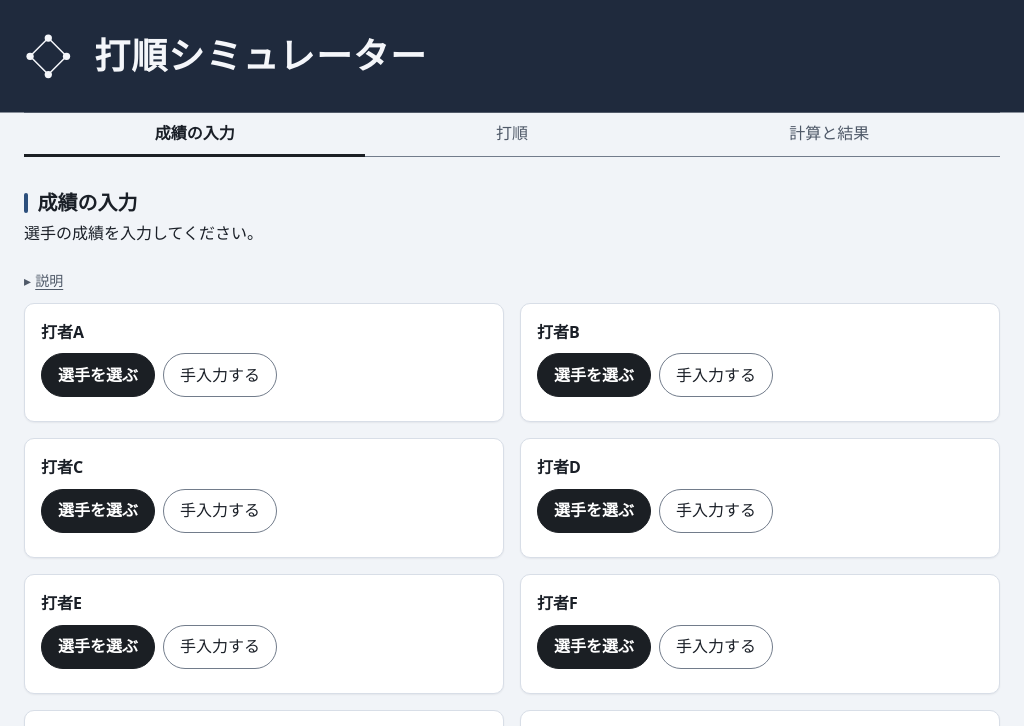
it: 手入力 › 「手入力する」で、表示名と14項目の入力欄を出し、フォーカスは表示名の欄へ移る
Click the button with aria-label "打者Cを手入力する".
click(220, 511)  # box top-left (163, 489), bottom-right (277, 533)
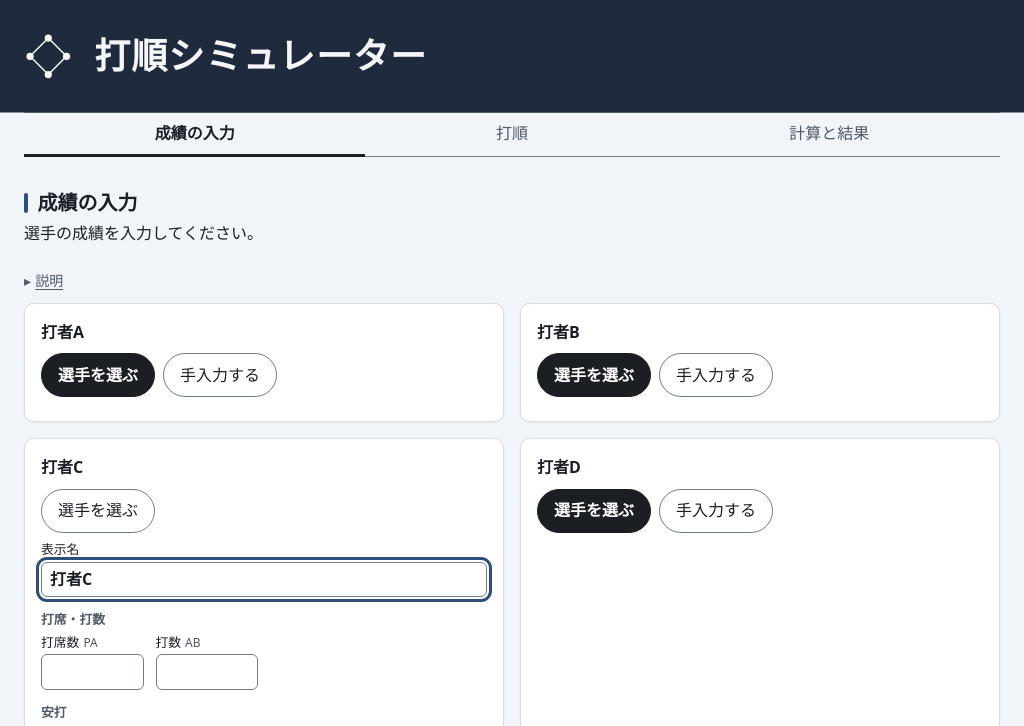
Check: the button with aria-label "打者Cの選手を選ぶ" is shown, box top-left (41, 489), bottom-right (155, 533)
Check: the number of fields is 15
Check: the button "打者Cを手入力する" is gone
